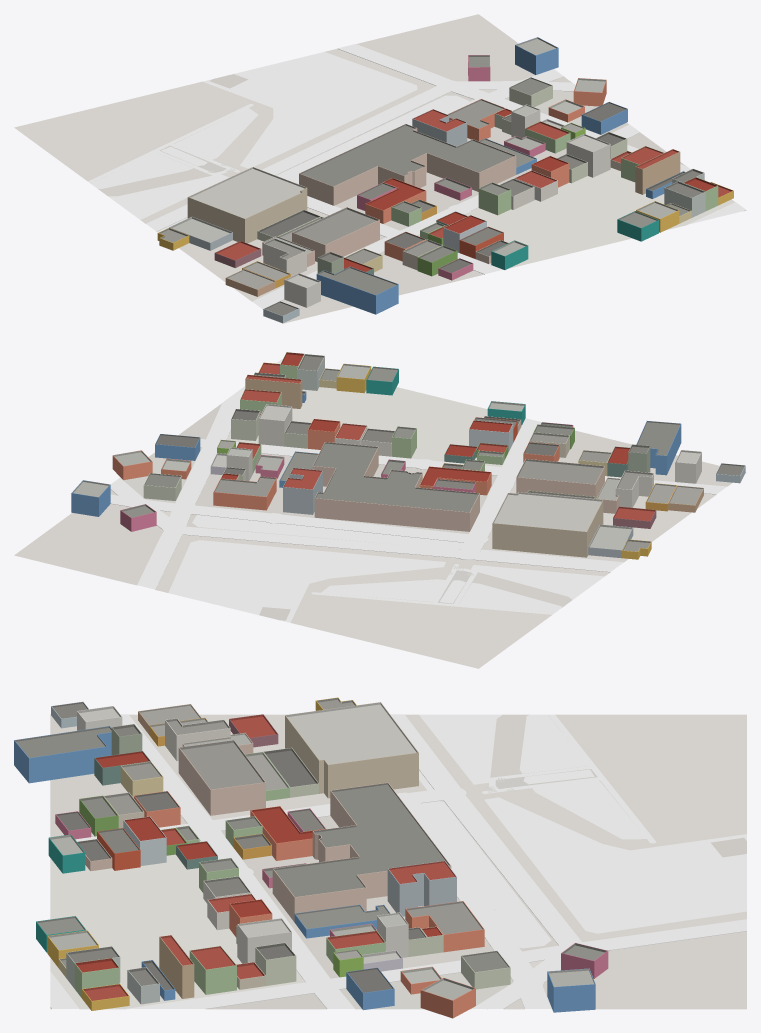
3 renders of one model, top to bottom at view 1: azimuth 30°, elevation 25°; view 2: azimuth 150°, elevation 25°; view 3: azimuth 270°, elevation 25°, orthographic. The views are drawn at different scales.
Visible parts, largest first — view 1: ground, roofs, walls, grass, sidewalk, concrete; view 2: ground, roofs, walls, grass, sidewalk, concrete; view 3: ground, roofs, walls, grass, sidewalk, concrete.
Part boxes in pixels (x1,y1,x2,y2): ground: (14, 14, 746, 323); roofs: (158, 37, 733, 316); walls: (157, 45, 733, 323); grass: (91, 52, 469, 219); sidewalk: (146, 44, 745, 323); concrete: (88, 104, 253, 232); ground: (14, 387, 745, 668); roofs: (72, 352, 745, 551); walls: (71, 356, 745, 559); grass: (168, 515, 604, 622); sidewalk: (110, 359, 746, 589); concrete: (311, 549, 623, 614); ground: (50, 714, 746, 1009); roofs: (14, 697, 607, 1001); walls: (14, 701, 608, 1018); grass: (419, 714, 746, 948); sidewalk: (50, 714, 746, 1008); concrete: (419, 714, 655, 843).
Size of what is drawn, in the model's own units: 264 by 13.36 by 263.
